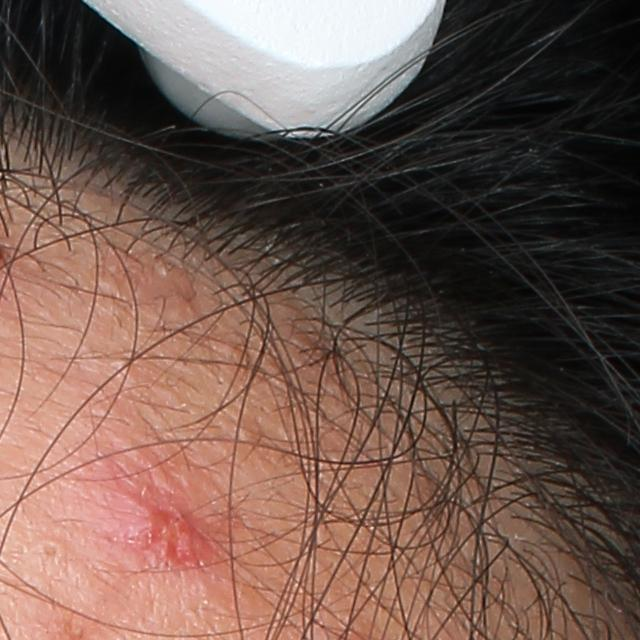comedo: (31, 536, 73, 567)
papule: (102, 496, 197, 562)
